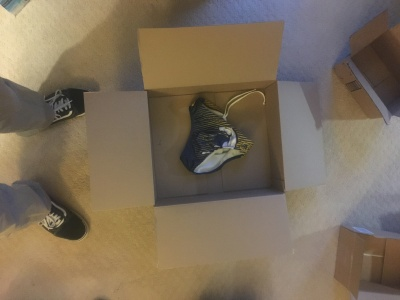innerbox: (146, 87, 281, 196)
outerbox: (90, 26, 327, 256)
product: (185, 99, 250, 169)
